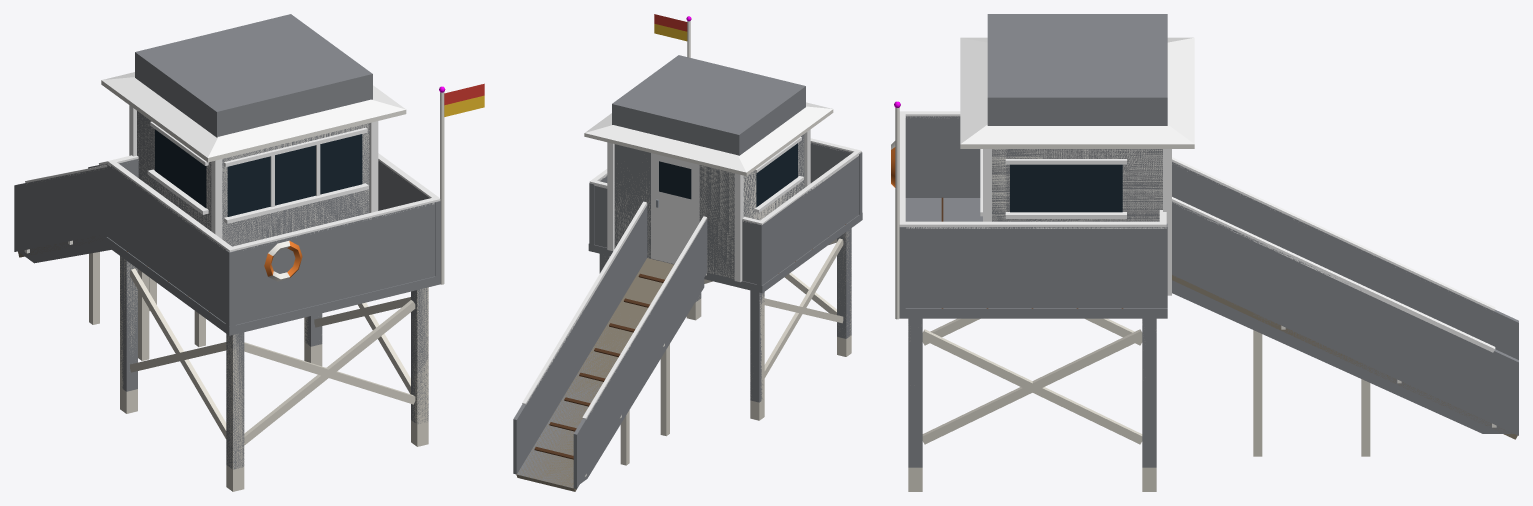
Rendered from prop_lifeguard_tower.glb.
The picture shows the model from 3 angles, left to right: view 1: azimuth 30°, elevation 25°; view 2: azimuth 150°, elevation 25°; view 3: azimuth 270°, elevation 25°; orthographic projection. The views are drawn at different scales.
Visible parts, largest first — view 1: prop_lifeguard_tower__col, prop_lifeguard_tower__mesh; view 2: prop_lifeguard_tower__col, prop_lifeguard_tower__mesh; view 3: prop_lifeguard_tower__col, prop_lifeguard_tower__mesh.
Boxes of the visible parts, box(x1,y1,x2,y2) form: prop_lifeguard_tower__col: box(14, 14, 440, 469); prop_lifeguard_tower__mesh: box(18, 72, 484, 491); prop_lifeguard_tower__col: box(513, 55, 862, 488); prop_lifeguard_tower__mesh: box(516, 14, 861, 491); prop_lifeguard_tower__col: box(899, 14, 1518, 467); prop_lifeguard_tower__mesh: box(891, 37, 1517, 491).
Bounding box in the file's own units: 3.6 × 4.84 × 6.97.
Materials: 1 (1 with a texture image).
